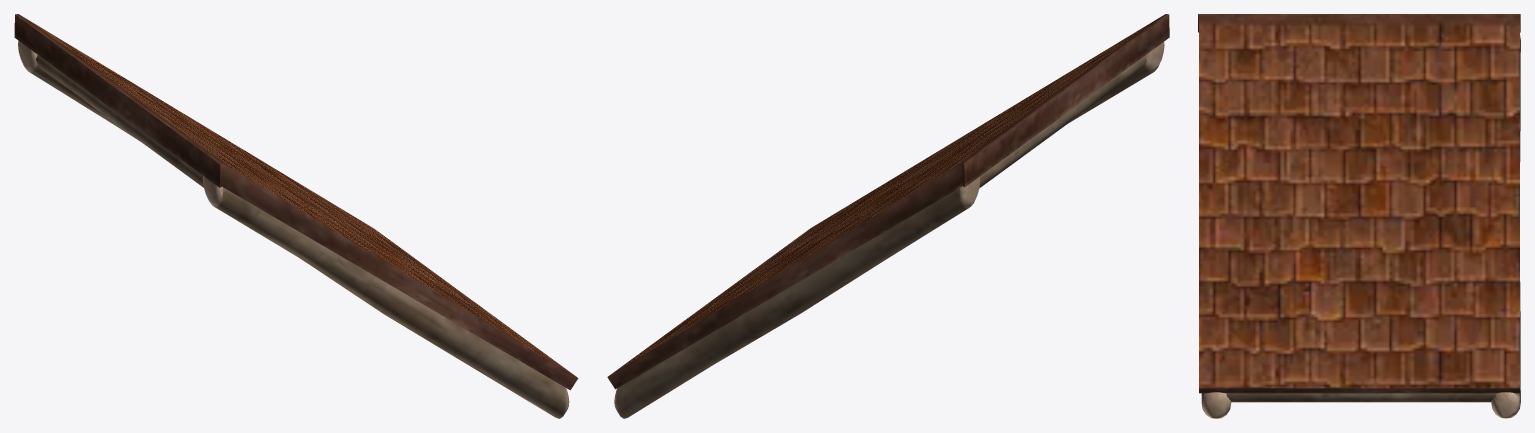
Rendered from SM_RoofB_Wood_8adc7a.glb.
3 views of the same model, side by side, from view 1: azimuth 30°, elevation 25°; view 2: azimuth 150°, elevation 25°; view 3: azimuth 270°, elevation 25° (orthographic). The views are drawn at different scales.
Bounding box in the file's own units: 4.07 × 3.75 × 4.03.
Materials: 1 (1 with a texture image).
